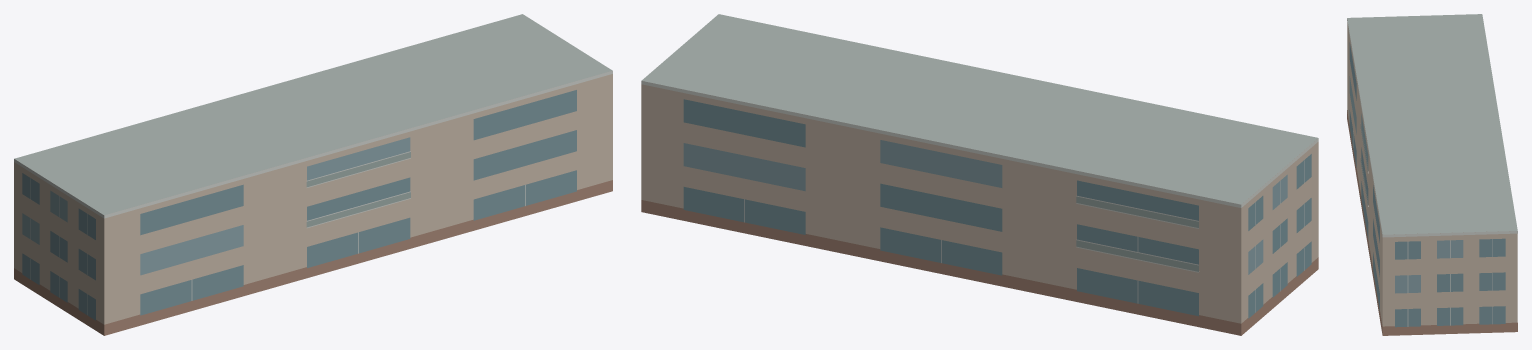
The model's file is survey-upis-32944578.glb.
The picture shows the model from 3 angles, left to right: view 1: azimuth 30°, elevation 25°; view 2: azimuth 150°, elevation 25°; view 3: azimuth 270°, elevation 25°; orthographic projection. The views are drawn at different scales.
Visible parts, largest first — view 1: survey-upis-32944578.tmp; view 2: survey-upis-32944578.tmp; view 3: survey-upis-32944578.tmp.
Boxes of the visible parts, x1,y1,x2,y2 form: survey-upis-32944578.tmp: [14, 14, 612, 335]; survey-upis-32944578.tmp: [641, 14, 1318, 335]; survey-upis-32944578.tmp: [1347, 14, 1517, 335].
Size of the model in its own units: 42.84 by 9.15 by 14.
